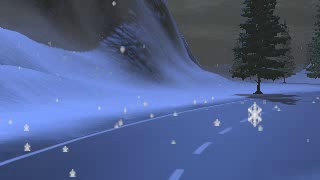Lane: (1, 90, 319, 179)
